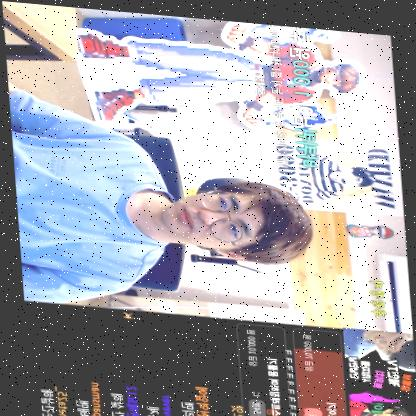donation: (249, 17, 319, 165)
streamer: (8, 80, 314, 320)
